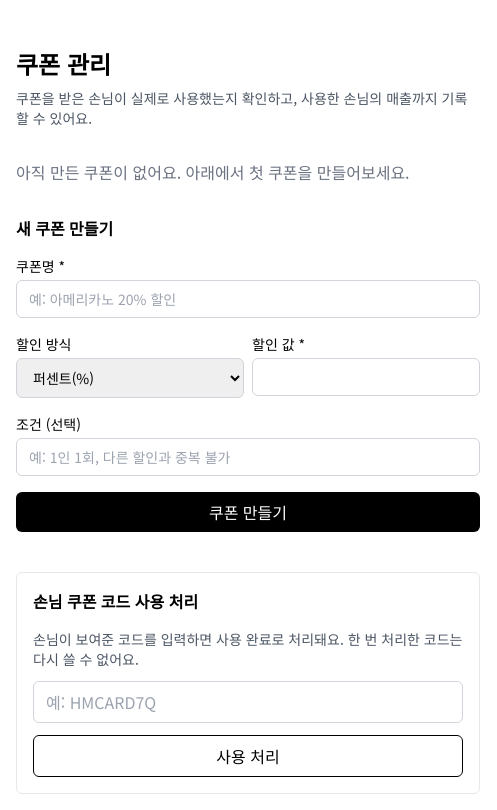
Test: CouponsPage - 쿠폰 사용 처리와 매출 기록 분리 › 나중에를 누르면 Transaction을 만들지 않고, 다시 매출 기록하기를 누르면 입력 폼이 다시 열린다
Expected: the text "아직 만든 쿠폰이 없어요. 아래에서 첫 쿠폰을 만들어보세요." is shown, top-left (16, 160), bottom-right (410, 184)
Type "HMCARD7Q" into the field with placeholder "예: HMCARD7Q" at (248, 702), box top-left (33, 681), bottom-right (463, 723)
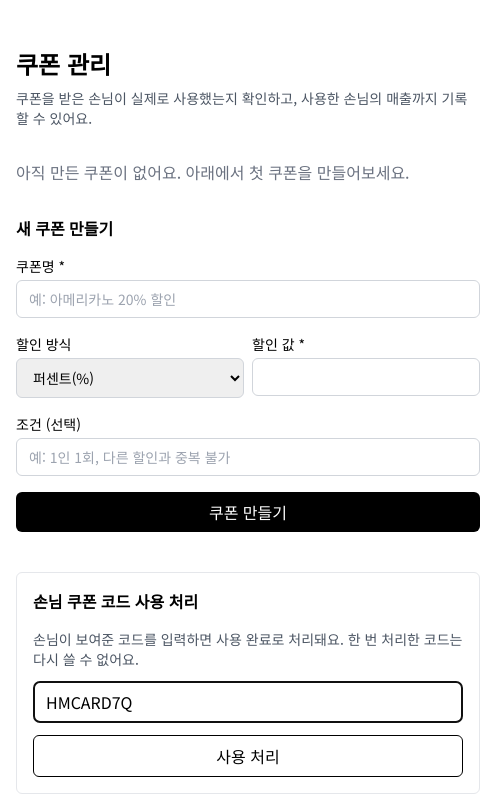
Click the button "사용 처리" at (248, 756), box top-left (33, 735), bottom-right (463, 777)
(page scrolled)
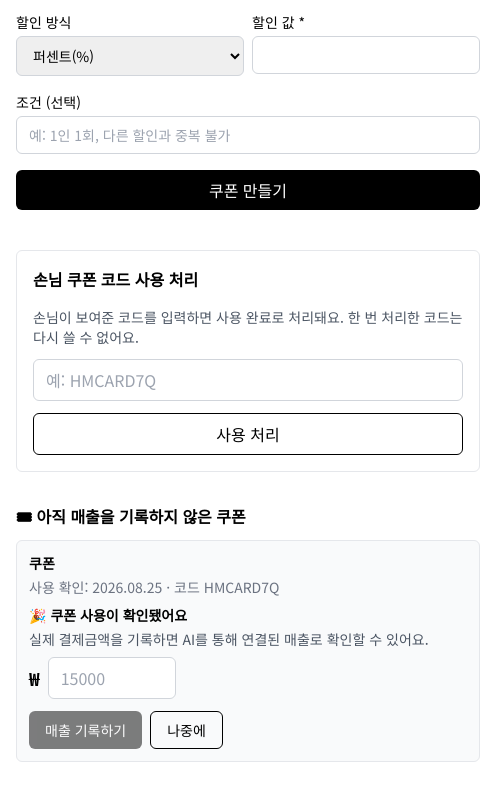
Expected: the text "🎉 쿠폰 사용이 확인됐어요" is shown, top-left (29, 605), bottom-right (187, 625)
Click the button "나중에" at (186, 730), box top-left (150, 711), bottom-right (223, 749)
(page scrolled)
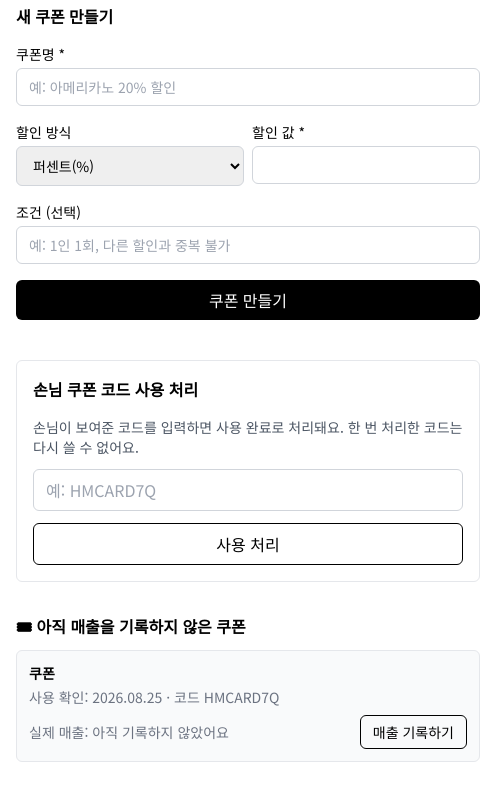
Expected: the text "실제 매출: 아직 기록하지 않았어요" is shown, top-left (29, 722), bottom-right (229, 742)
Click the button "매출 기록하기" at (413, 732), box top-left (360, 715), bottom-right (467, 749)
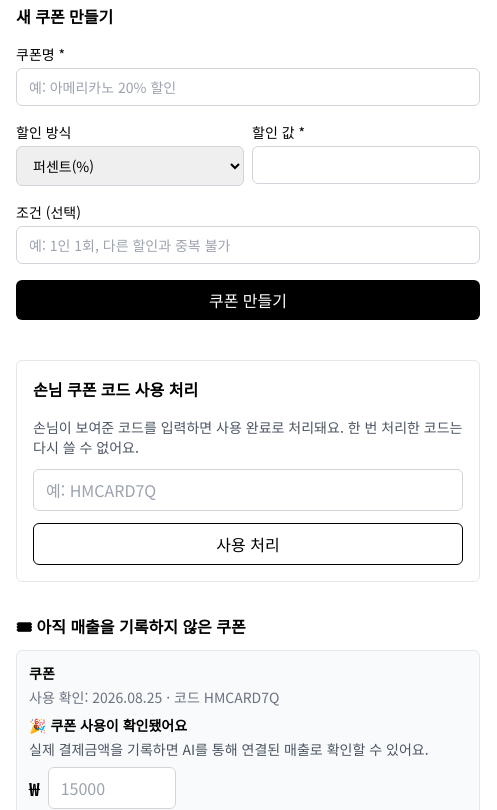
Expected: the text "🎉 쿠폰 사용이 확인됐어요" is shown, top-left (29, 715), bottom-right (187, 735)
